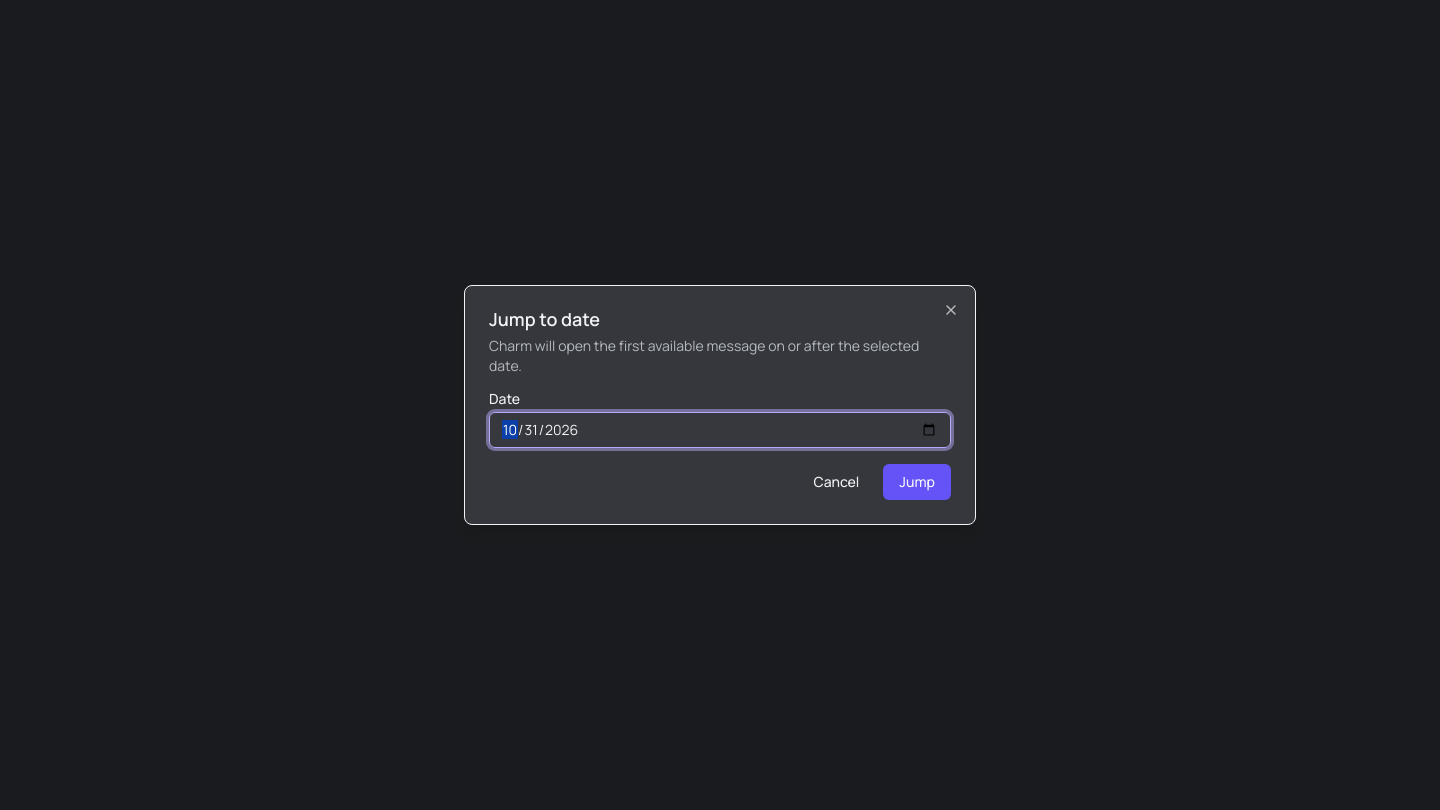
Scenario: JumpToDateDialog › shows a bounded error when the server has no event near the date
Click the button "Jump": (917, 482) [883, 464, 951, 500]
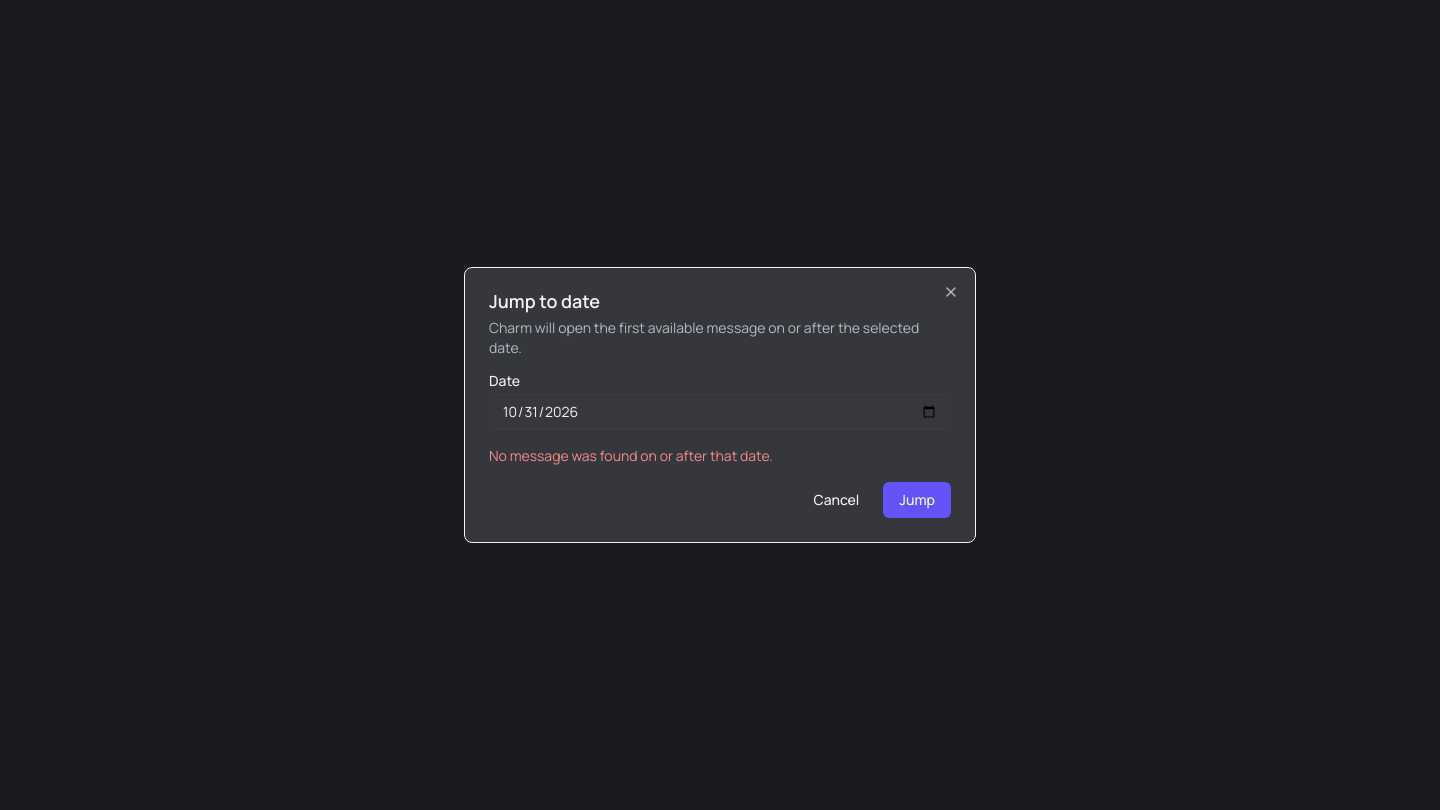
Check: the message does not show "server detail", box [489, 446, 773, 465]
Check: the message reads "No message was found on or after that date.", box [489, 446, 773, 465]
